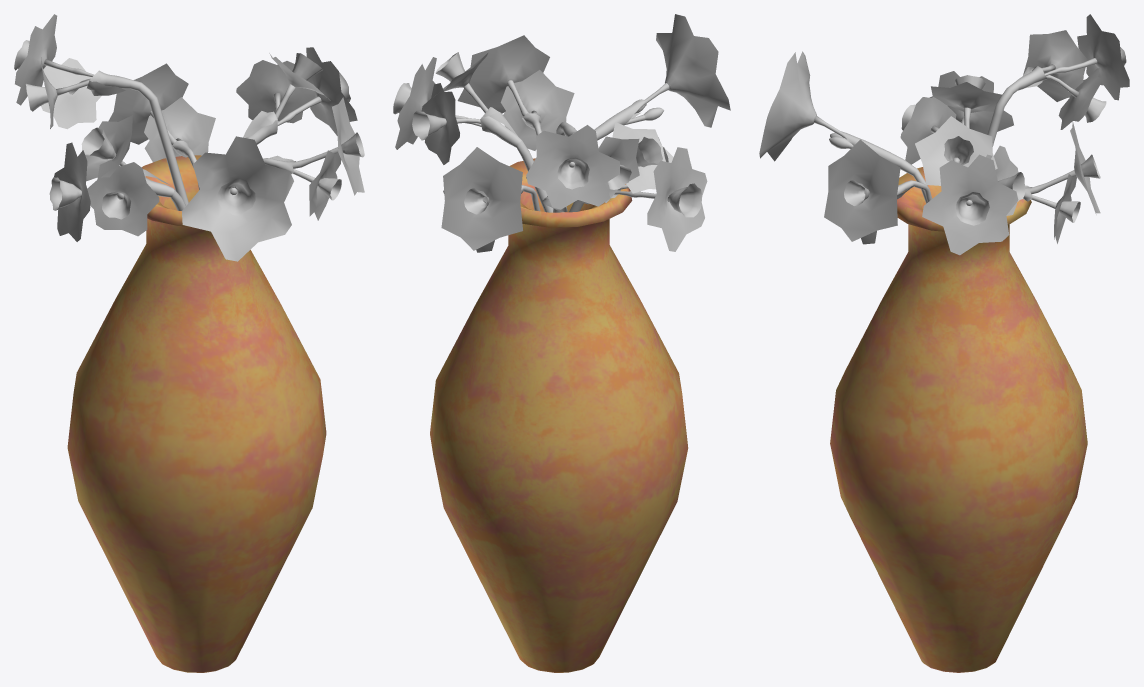
The model's file is SM_FlowersSpring_Environment.fbx.
3 views of the same model, side by side, from view 1: azimuth 30°, elevation 25°; view 2: azimuth 150°, elevation 25°; view 3: azimuth 270°, elevation 25° (orthographic).
Visible parts, largest first — view 1: SM_Vase_01, SM_Daffodils; view 2: SM_Vase_01, SM_Daffodils; view 3: SM_Vase_01, SM_Daffodils.
Boxes of the visible parts, box(x1,y1,x2,y2) form: SM_Vase_01: box(67, 155, 326, 672); SM_Daffodils: box(14, 14, 364, 261); SM_Vase_01: box(430, 158, 688, 672); SM_Daffodils: box(393, 14, 730, 252); SM_Vase_01: box(830, 167, 1087, 672); SM_Daffodils: box(759, 14, 1129, 255).
Bounding box in the file's own units: 29.84 × 58.53 × 32.88.
